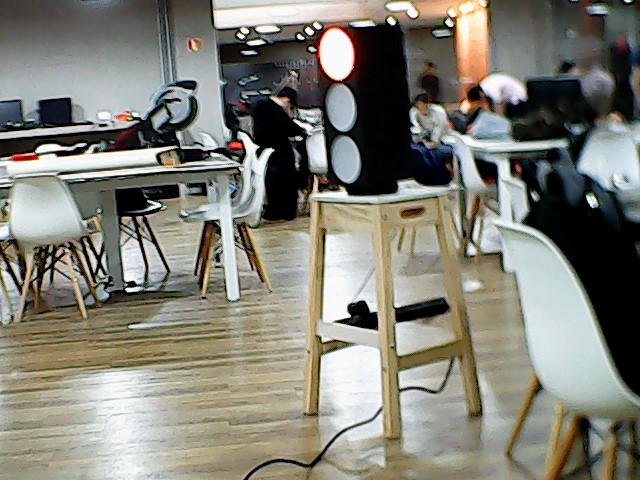vermelho: (310, 22, 420, 184)
